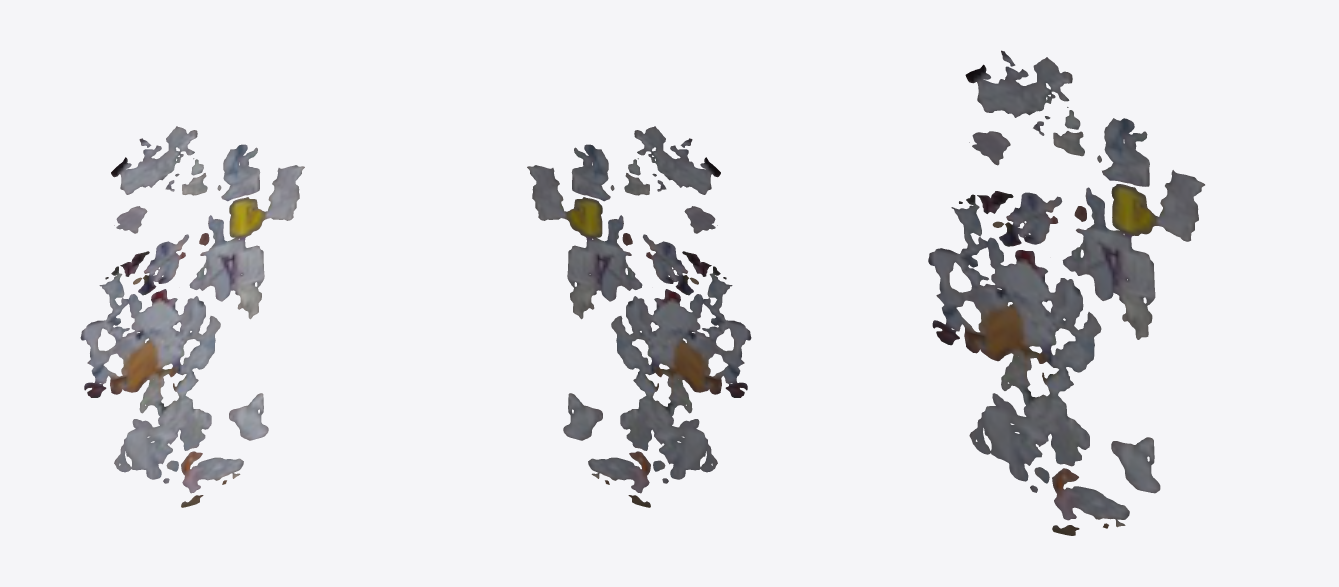
File: hall_trash_1.FBX
3 renders of one model, left to right at view 1: azimuth 30°, elevation 25°; view 2: azimuth 150°, elevation 25°; view 3: azimuth 330°, elevation 25°, orthographic. The views are drawn at different scales.
Visible parts, largest first — view 1: trash_4; view 2: trash_4; view 3: trash_4.
Boxes of the visible parts, x1,y1,x2,y2 form: trash_4: (80,126,304,507); trash_4: (527,126,751,507); trash_4: (928,50,1204,535).
Bounding box in the file's own units: 19.58 × 22.65 × 5.37e-06.
